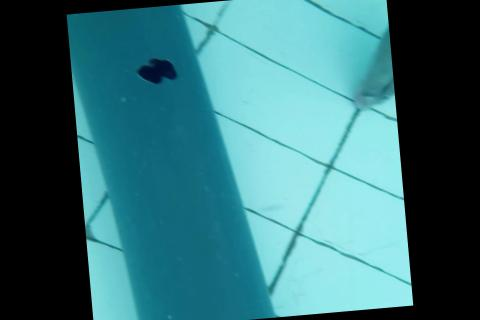kebocoran: (134, 54, 180, 86)
